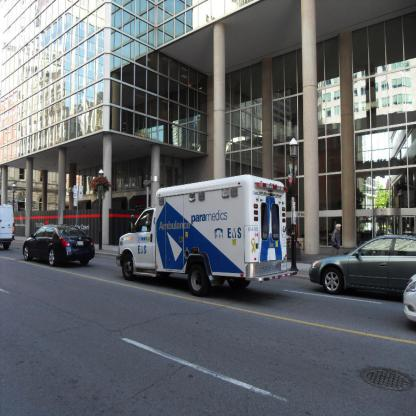Ambulance: (115, 172, 296, 298)
Truck: (120, 176, 291, 298), (0, 203, 18, 250)
